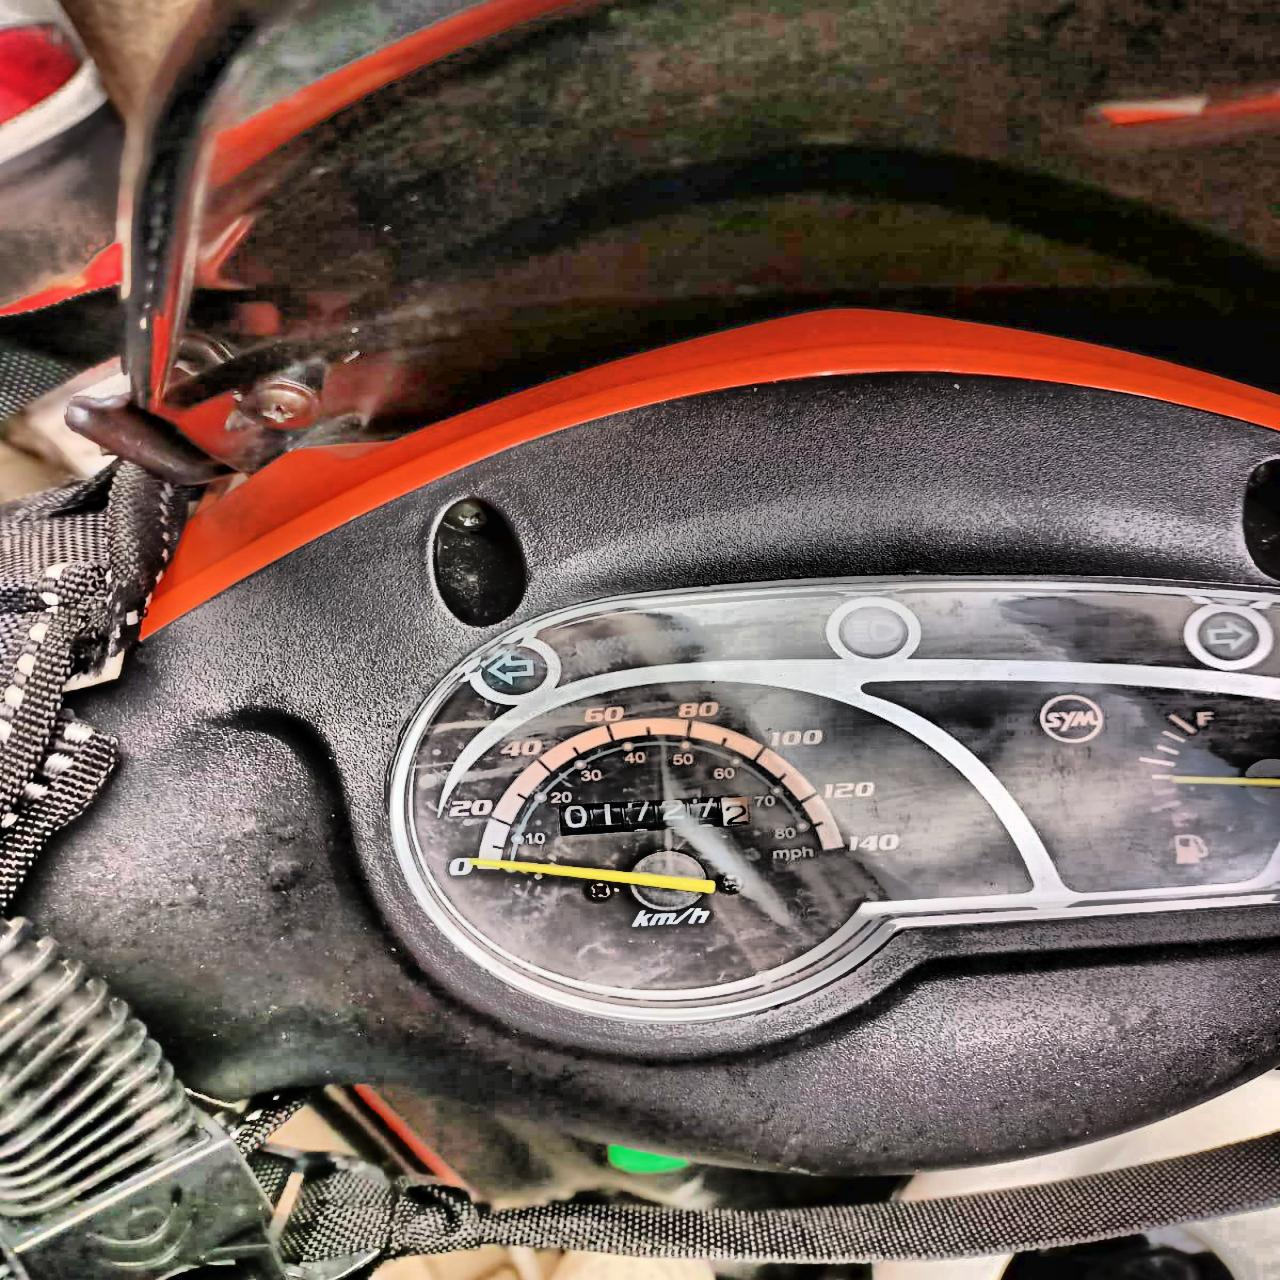0: (563, 802, 588, 829), (561, 789, 572, 802)
1: (598, 800, 616, 826)
2: (658, 798, 687, 822), (722, 802, 750, 826)
7: (624, 797, 651, 821), (691, 796, 715, 819)
odometer: (556, 794, 751, 836)
